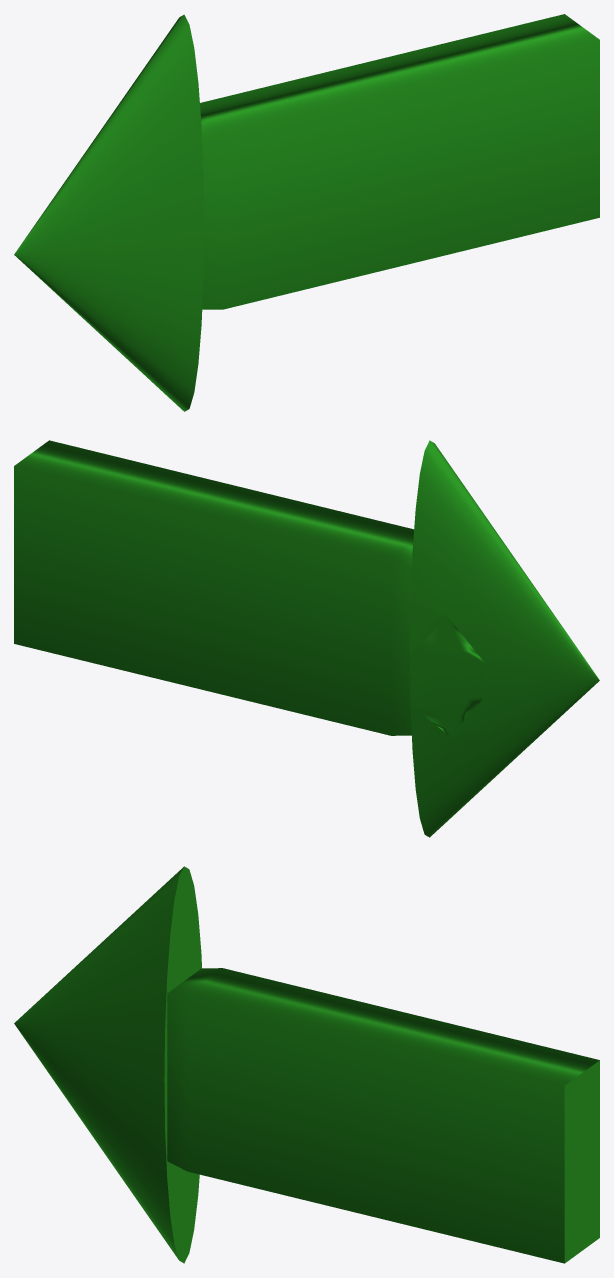
The model's file is left blinker light.fbx.
3 views of the same model, one above another, from view 1: azimuth 30°, elevation 25°; view 2: azimuth 150°, elevation 25°; view 3: azimuth 330°, elevation 25° (orthographic).
Parts seen in each view (by area): view 1: Left blinker light; view 2: Left blinker light; view 3: Left blinker light.
Boxes of the visible parts, x1,y1,x2,y2 form: Left blinker light: (14,14,599,411); Left blinker light: (14,440,599,837); Left blinker light: (14,866,599,1263).
Bounding box in the file's own units: 2.03 × 1.36 × 0.2459.
